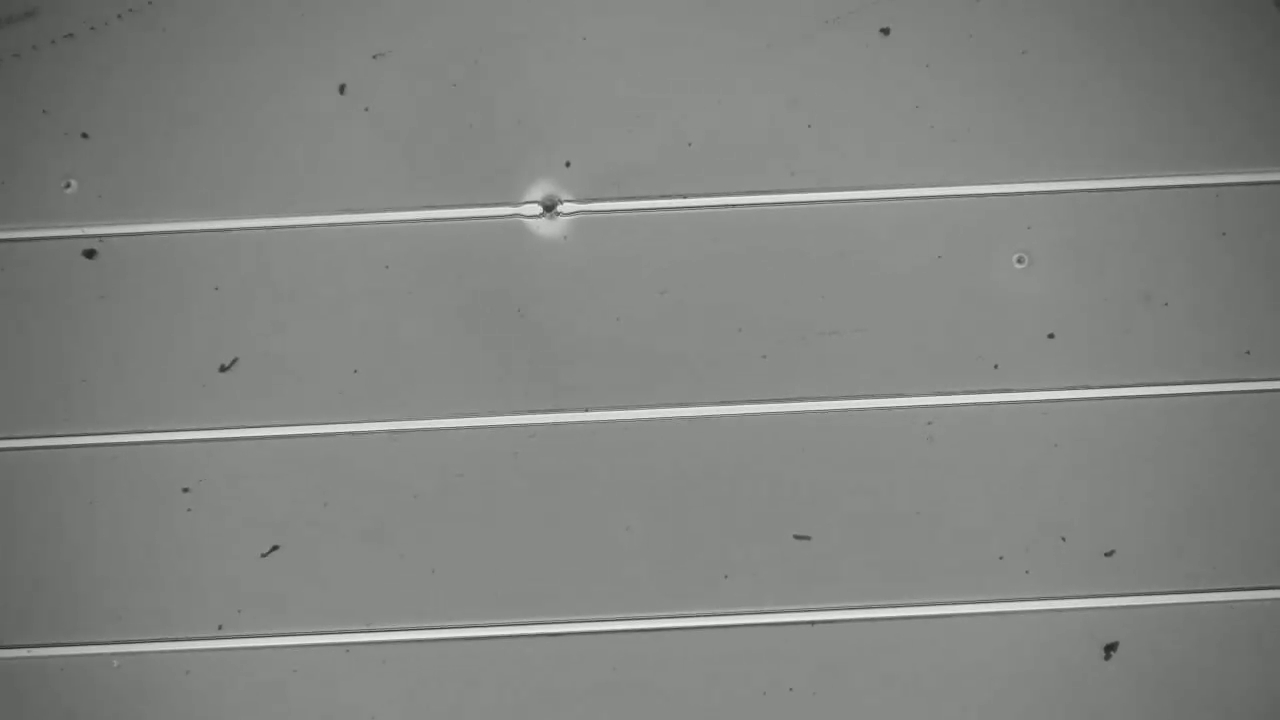stains_enbedded: (525, 182, 582, 232)
